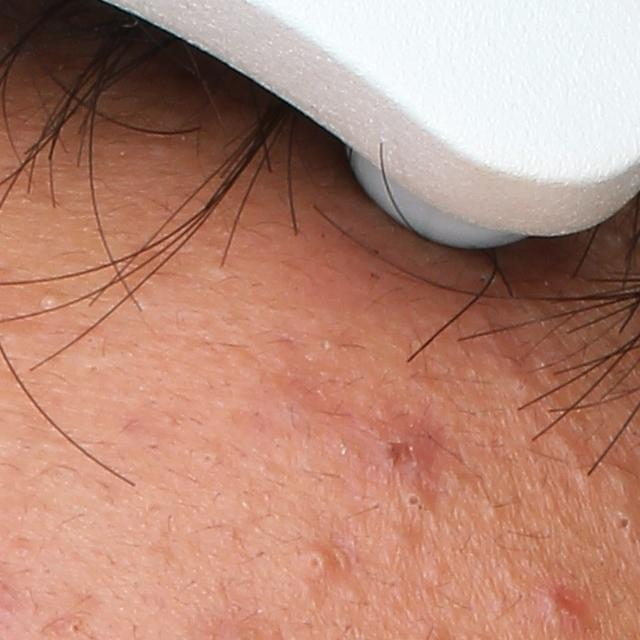comedo: (293, 544, 333, 583), (608, 469, 637, 498), (401, 487, 428, 513), (506, 374, 534, 399), (616, 510, 635, 540), (65, 615, 86, 639), (199, 447, 219, 470)
papule: (362, 413, 441, 481), (529, 575, 598, 640)
